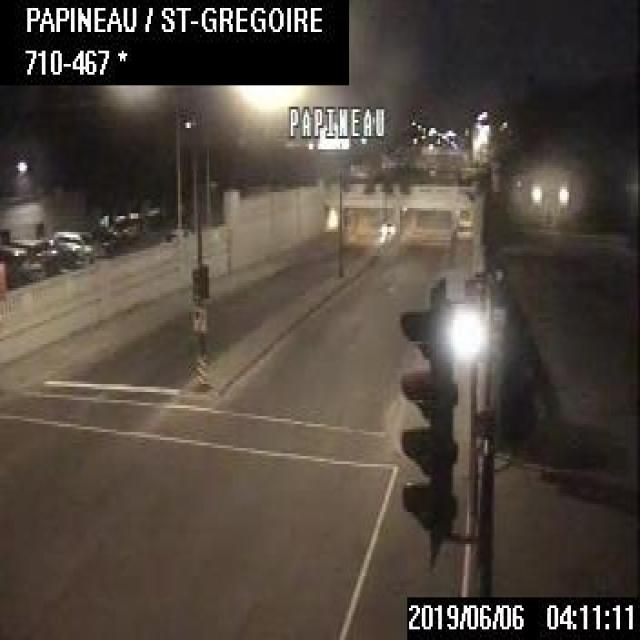vehicle: (0, 241, 47, 283), (50, 227, 101, 265), (16, 238, 55, 274), (378, 216, 395, 232)
